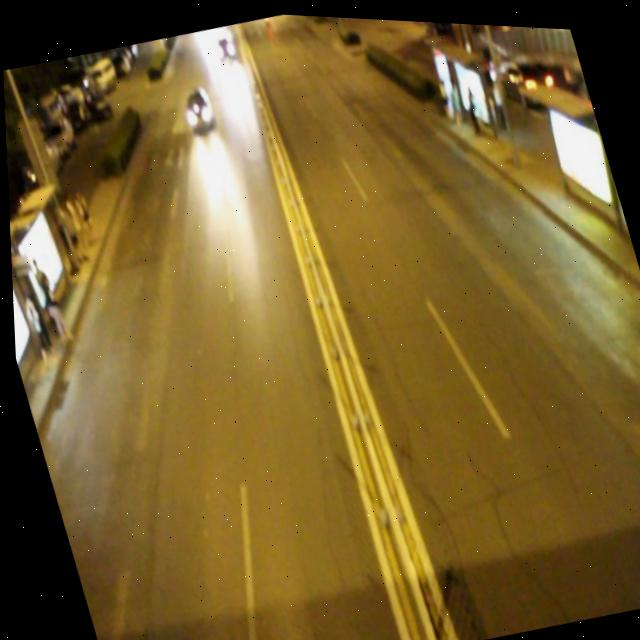car: (177, 82, 217, 132)
